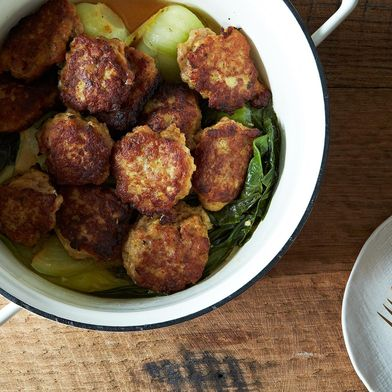meatballs: (59, 36, 158, 127), (127, 202, 218, 299), (172, 23, 268, 107), (113, 122, 197, 215), (186, 114, 260, 215), (48, 185, 135, 263), (41, 114, 120, 189), (2, 5, 80, 75), (4, 166, 62, 249)
